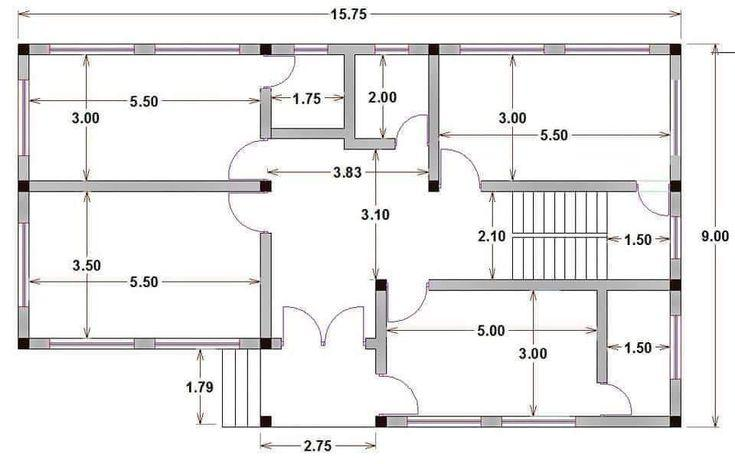Blueprint: (11, 36, 691, 434)
wall: (426, 276, 672, 293), (26, 178, 262, 194), (477, 178, 638, 195), (426, 52, 444, 182), (593, 276, 611, 386), (257, 230, 274, 341), (341, 41, 357, 153), (574, 413, 672, 430), (257, 125, 356, 141), (373, 288, 389, 378), (341, 136, 398, 153), (257, 86, 274, 142), (324, 41, 378, 57), (666, 376, 683, 419), (15, 303, 31, 341), (16, 189, 32, 224), (667, 153, 684, 184), (668, 288, 684, 320), (540, 40, 568, 58), (16, 53, 32, 84), (666, 190, 683, 218), (15, 154, 31, 183), (26, 335, 53, 352), (132, 335, 159, 352), (363, 335, 390, 352), (477, 413, 504, 430), (668, 52, 682, 84), (236, 336, 263, 352), (269, 42, 296, 58), (406, 41, 431, 58), (436, 42, 464, 57), (27, 41, 53, 57), (668, 255, 683, 282), (237, 41, 262, 57), (132, 41, 157, 57), (384, 415, 410, 430), (648, 41, 672, 57), (269, 335, 284, 351)
